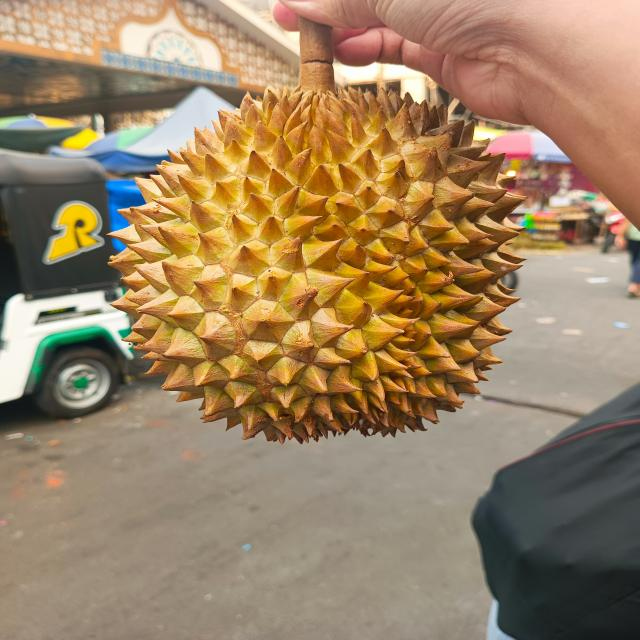mature: (109, 18, 523, 443)
